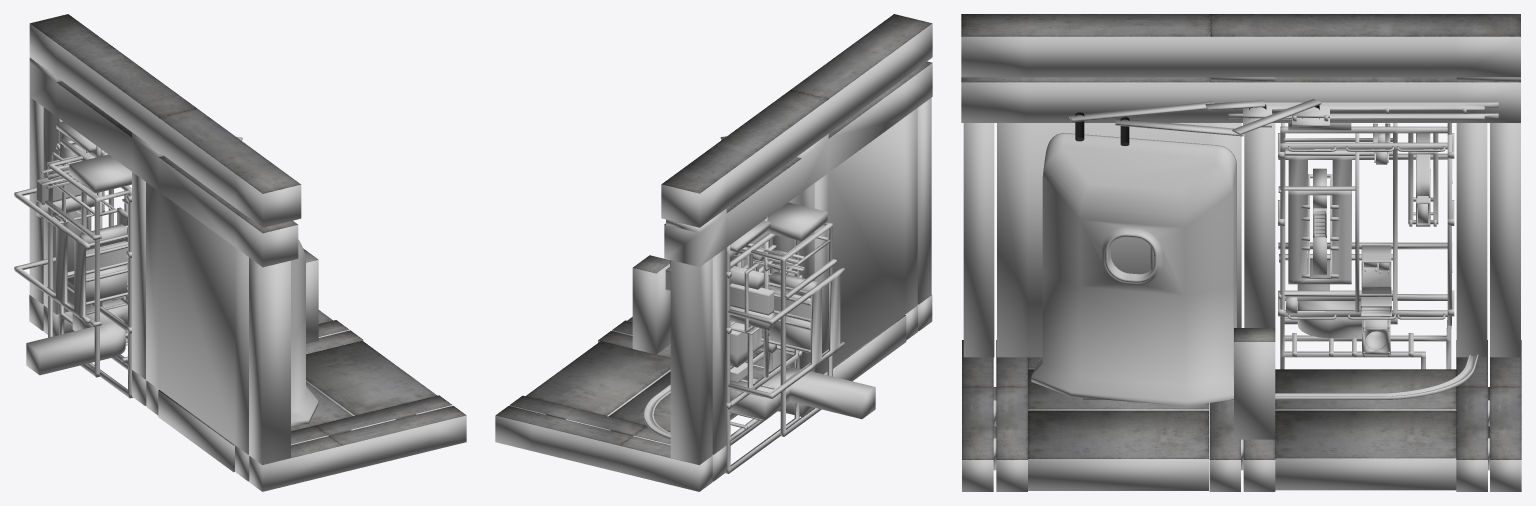
3 views of the same model, side by side, from view 1: azimuth 30°, elevation 25°; view 2: azimuth 150°, elevation 25°; view 3: azimuth 270°, elevation 25° (orthographic). The views are drawn at different scales.
Parts seen in each view (by area): view 1: Cube.026; view 2: Cube.026; view 3: Cube.026.
Boxes of the visible parts, x1,y1,x2,y2 form: Cube.026: [14, 14, 466, 491]; Cube.026: [495, 14, 932, 491]; Cube.026: [961, 14, 1521, 491].
Size of the model in its own units: 748 by 751 by 1052.
